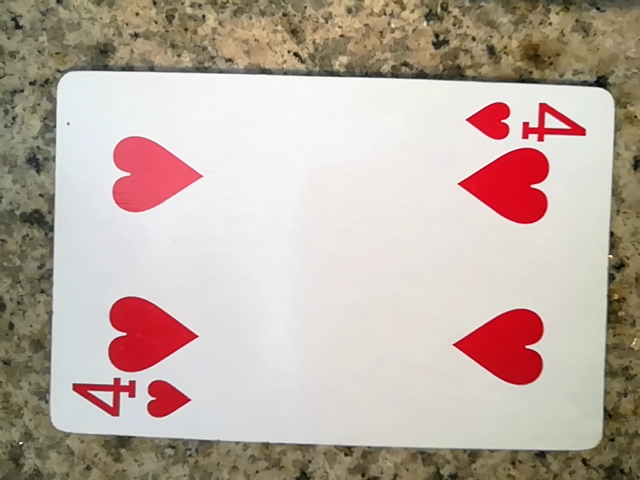hx 4: (44, 73, 613, 466)
